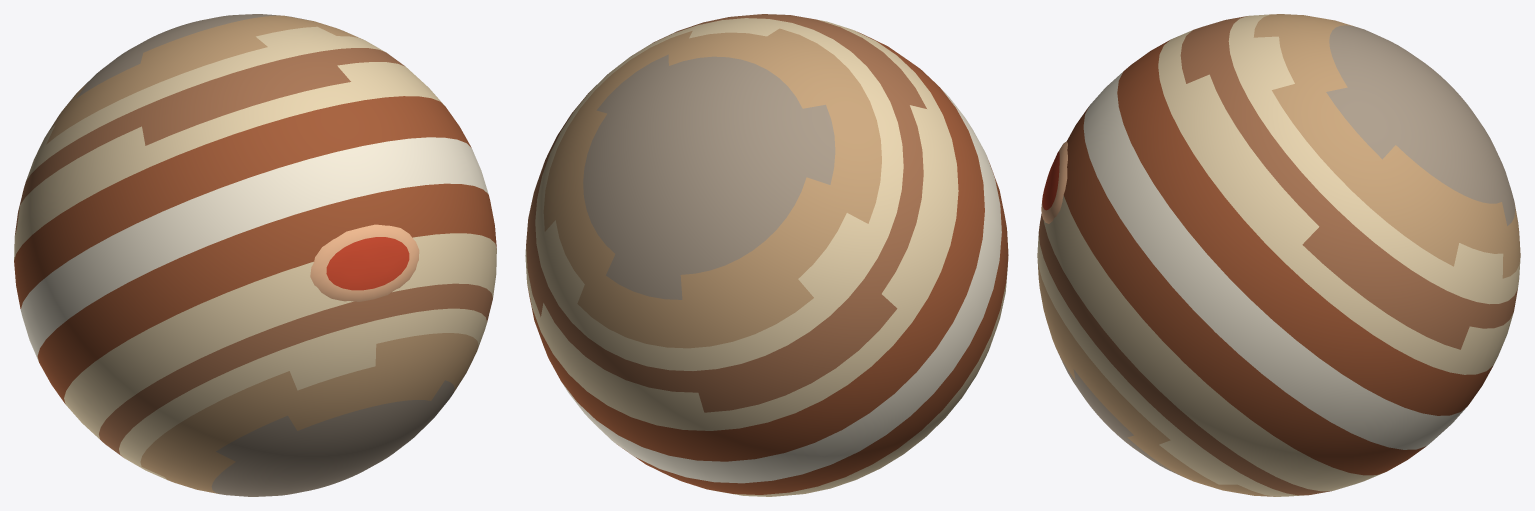
Rendered from jupiter.glb.
3 views of the same model, side by side, from view 1: azimuth 30°, elevation 25°; view 2: azimuth 150°, elevation 25°; view 3: azimuth 270°, elevation 25° (orthographic).
Visible parts, largest first — view 1: body; view 2: body; view 3: body.
Part boxes in pixels (x1=…): body: x1=14, y1=14, x2=496, y2=496; body: x1=525, y1=14, x2=1008, y2=496; body: x1=1037, y1=14, x2=1520, y2=496.
Bounding box in the file's own units: 200 × 200 × 200.
